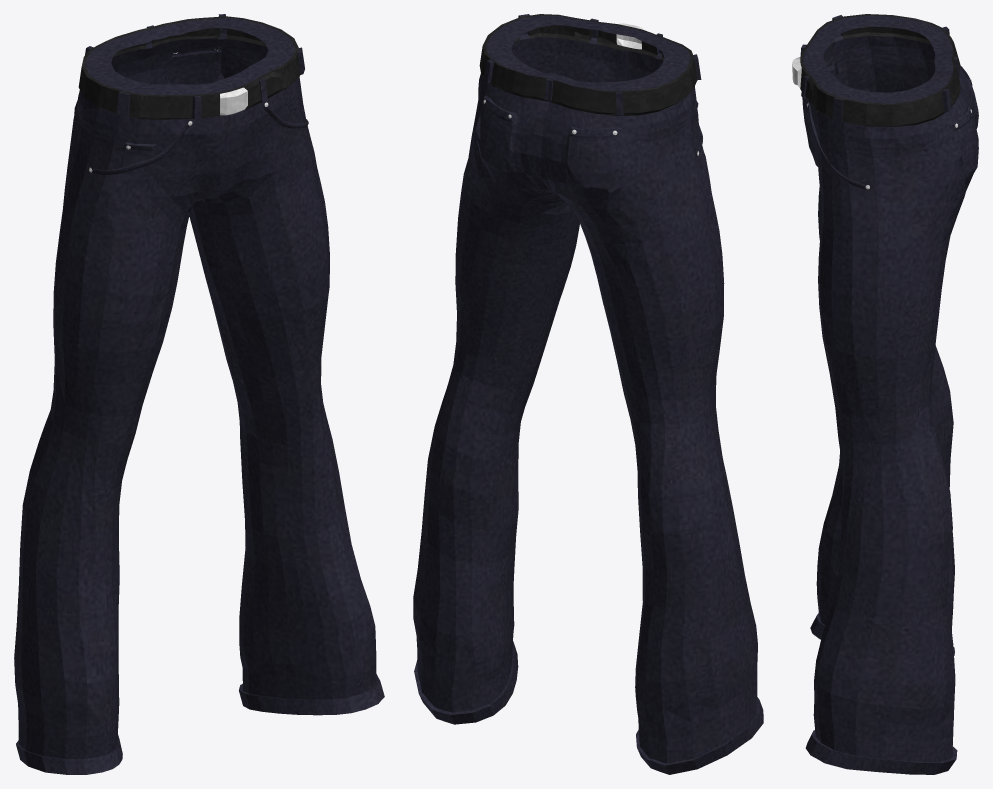
Rendered from mhw_elvs_jeans_bootcut.glb.
The picture shows the model from 3 angles, left to right: view 1: azimuth 30°, elevation 25°; view 2: azimuth 150°, elevation 25°; view 3: azimuth 270°, elevation 25°; orthographic projection. The views are drawn at different scales.
Visible parts, largest first — view 1: mhw_elvs_jeans_bootcut; view 2: mhw_elvs_jeans_bootcut; view 3: mhw_elvs_jeans_bootcut.
Part boxes in pixels (x1,y1,x2,y2): mhw_elvs_jeans_bootcut: [14, 14, 384, 774]; mhw_elvs_jeans_bootcut: [413, 14, 763, 774]; mhw_elvs_jeans_bootcut: [792, 14, 978, 774].
Size of the model in its own units: 0.5639 by 1.1 by 0.2836.
Materials: 1 (1 with a texture image).
